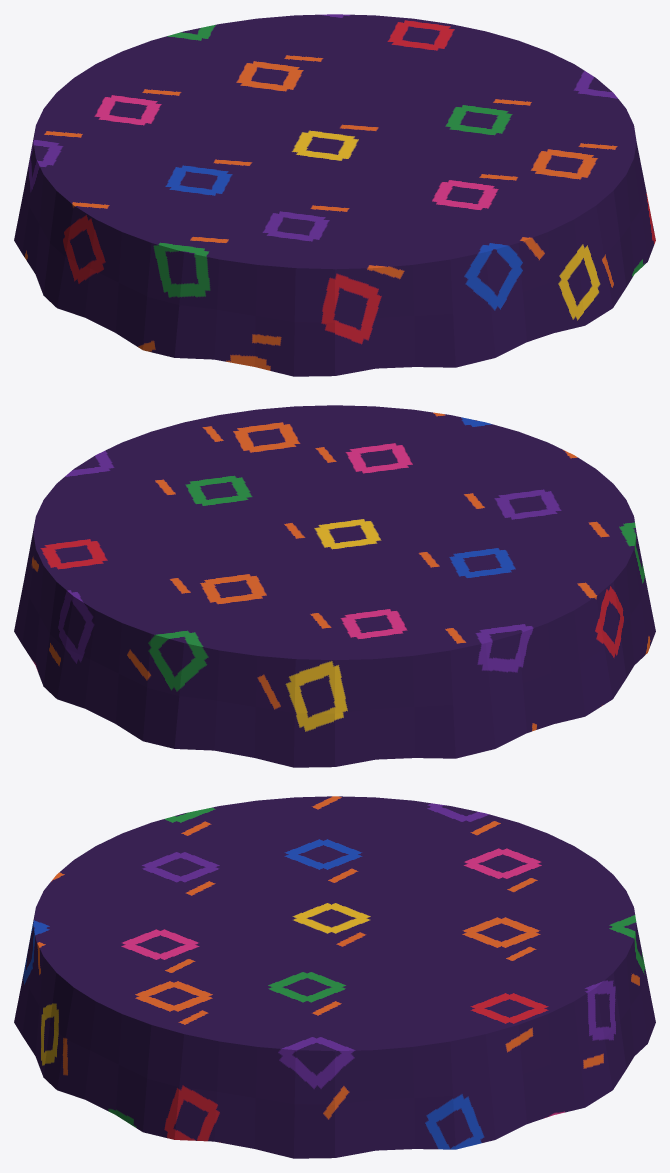
File: party_cloth_round_arcade.glb
3 views of the same model, one above another, from view 1: azimuth 30°, elevation 25°; view 2: azimuth 150°, elevation 25°; view 3: azimuth 270°, elevation 25° (orthographic).
Visible parts, largest first — view 1: party_cloth_round_arcade; view 2: party_cloth_round_arcade; view 3: party_cloth_round_arcade.
Part boxes in pixels (x1,y1,x2,y2): party_cloth_round_arcade: [14, 14, 655, 376]; party_cloth_round_arcade: [14, 405, 655, 767]; party_cloth_round_arcade: [14, 796, 655, 1158].
Bounding box in the file's own units: 1.29 × 0.2284 × 1.29.
1 material, 1 textured.
